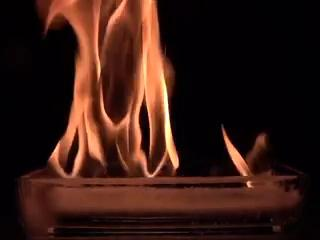Fire: (105, 1, 252, 179)
